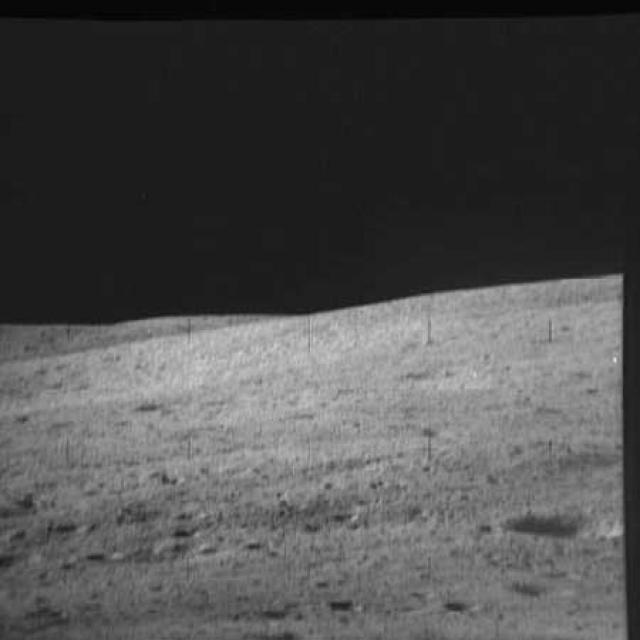crater: (497, 499, 612, 562)
